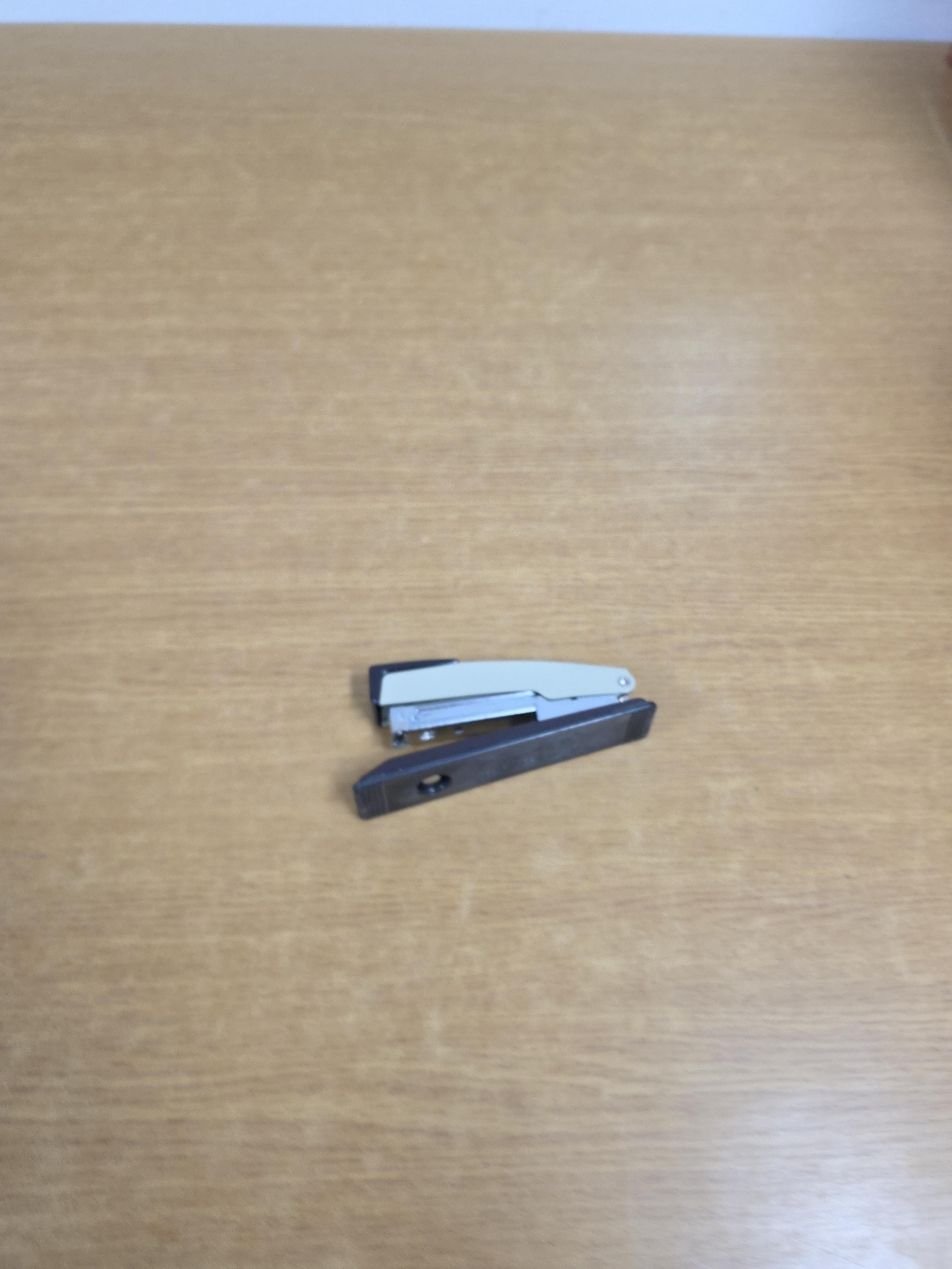stapler: (351, 656, 658, 820)
